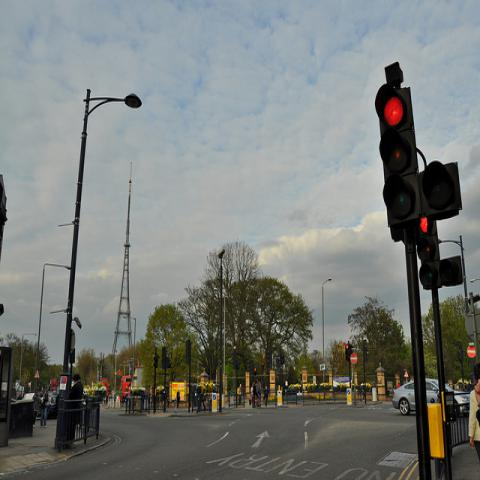car: (392, 378, 470, 416), (23, 393, 44, 402)
